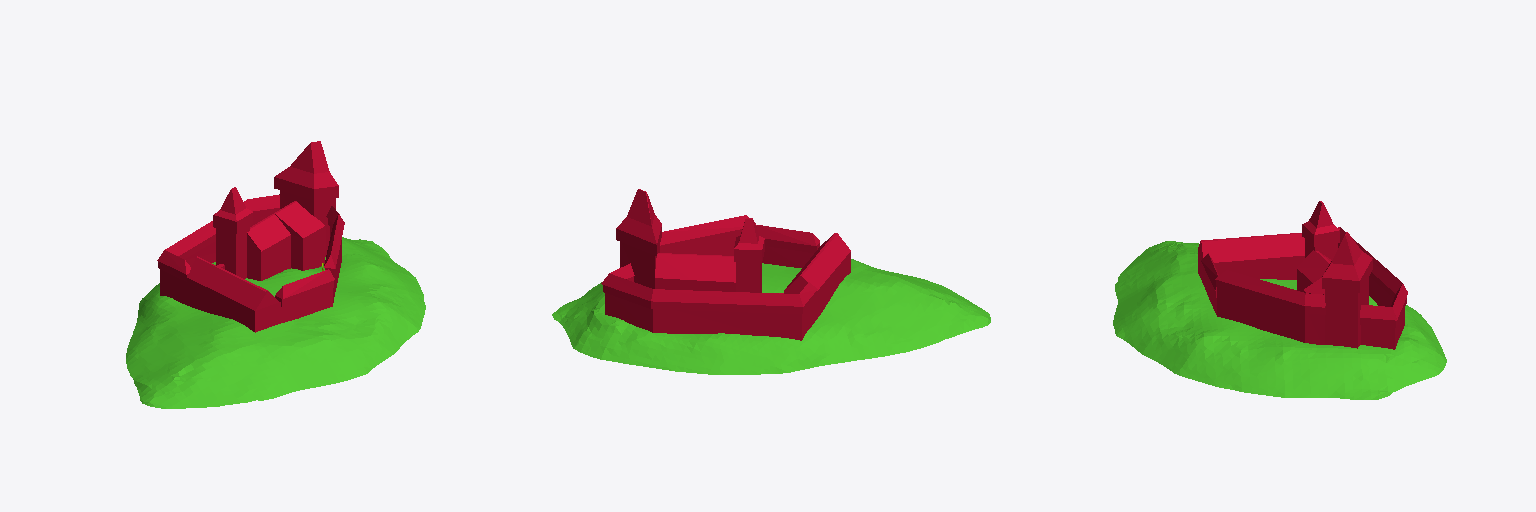
File: modelHistory.obj
The picture shows the model from 3 angles: view 1: azimuth 30°, elevation 25°; view 2: azimuth 150°, elevation 25°; view 3: azimuth 270°, elevation 25°; orthographic projection.
Visible parts, largest first — view 1: Grid_Grid.003; view 2: Grid_Grid.003; view 3: Grid_Grid.003.
Boxes of the visible parts, <box> form: Grid_Grid.003: <box>126,141,425,408</box>; Grid_Grid.003: <box>552,189,990,374</box>; Grid_Grid.003: <box>1113,201,1446,399</box>.
Size of the model in its own units: 109 by 41.9 by 94.13.